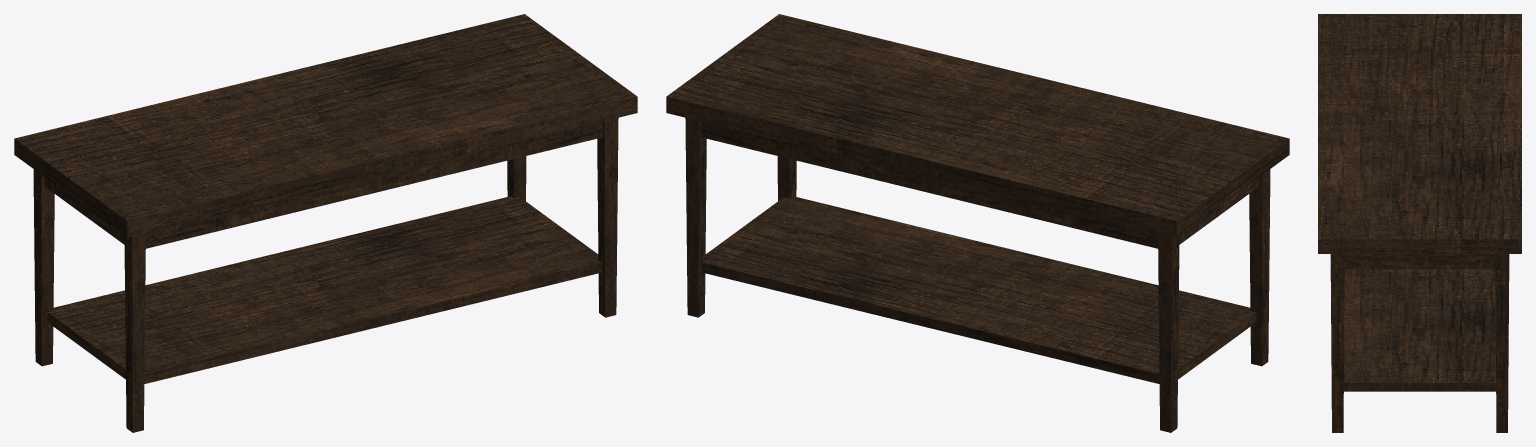
Rendered from coffee_table_1_1.glb.
The picture shows the model from 3 angles, left to right: view 1: azimuth 30°, elevation 25°; view 2: azimuth 150°, elevation 25°; view 3: azimuth 270°, elevation 25°; orthographic projection. The views are drawn at different scales.
Visible parts, largest first — view 1: coffee_table_1_1; view 2: coffee_table_1_1; view 3: coffee_table_1_1.
Boxes of the visible parts, <box> form: coffee_table_1_1: <box>14,14,637,432</box>; coffee_table_1_1: <box>666,14,1289,432</box>; coffee_table_1_1: <box>1318,14,1521,432</box>.
Bounding box in the file's own units: 1.62 × 0.67 × 0.62.
1 material, 1 textured.
